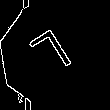L_SE: (28, 25, 82, 85)
